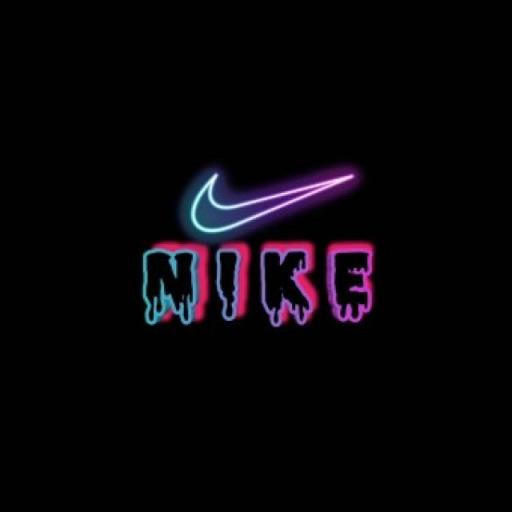Nike: (179, 161, 362, 244)
